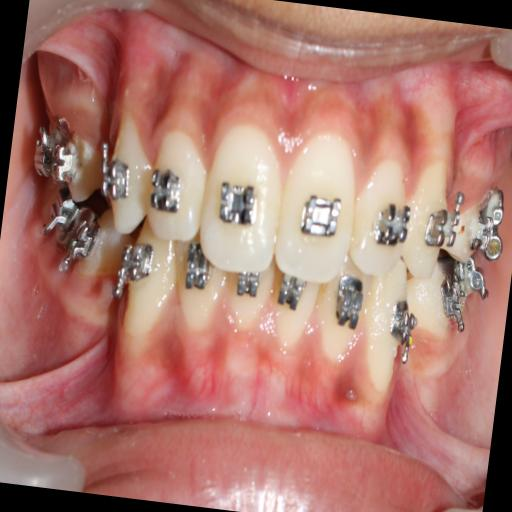correct_brace: (274, 134, 362, 276), (294, 180, 346, 249), (370, 194, 416, 254), (144, 160, 186, 220), (216, 172, 259, 230), (422, 202, 464, 260), (96, 150, 134, 202)
incorrect_brace: (345, 150, 418, 281), (142, 128, 212, 244)
